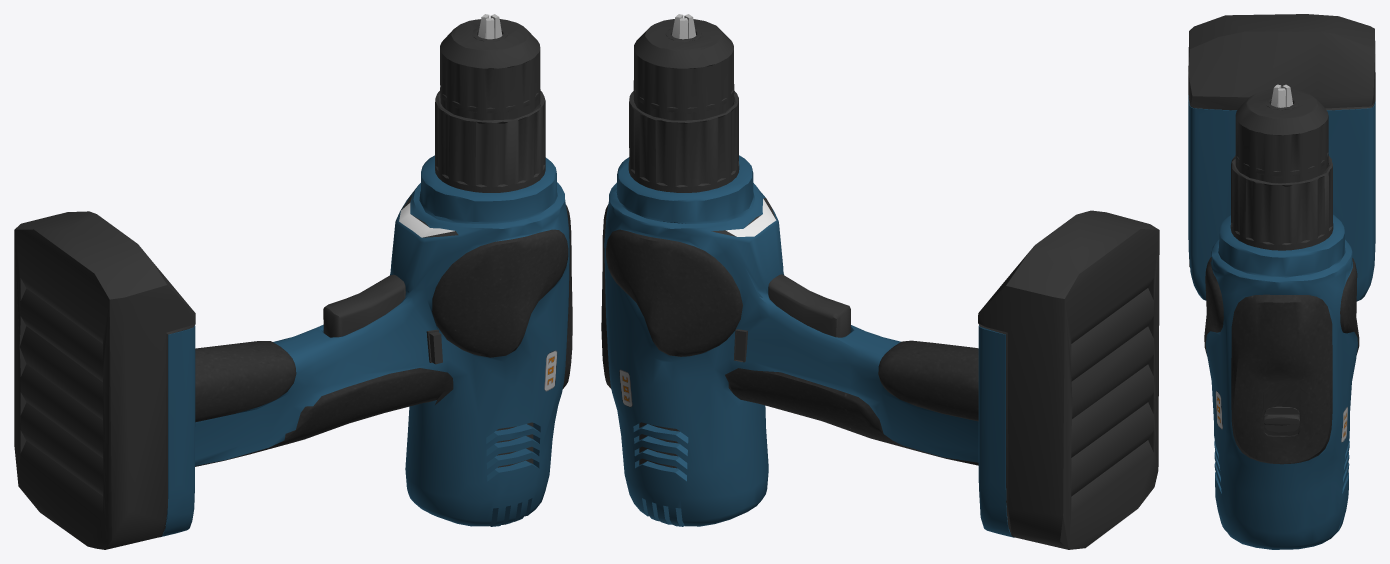
File: BatteryDrill Mesh.fbx
The picture shows the model from 3 angles, left to right: view 1: azimuth 30°, elevation 25°; view 2: azimuth 150°, elevation 25°; view 3: azimuth 270°, elevation 25°; orthographic projection. The views are drawn at different scales.
Visible parts, largest first — view 1: BatteryDrill LOD0; view 2: BatteryDrill LOD0; view 3: BatteryDrill LOD0.
Boxes of the visible parts, x1,y1,x2,y2 form: BatteryDrill LOD0: (14,14,572,549); BatteryDrill LOD0: (601,14,1159,549); BatteryDrill LOD0: (1188,14,1375,549).
Size of what is drawn, in the model's own units: 0.264 by 0.2464 by 0.0924.
Materials: 1 (1 with a texture image).
